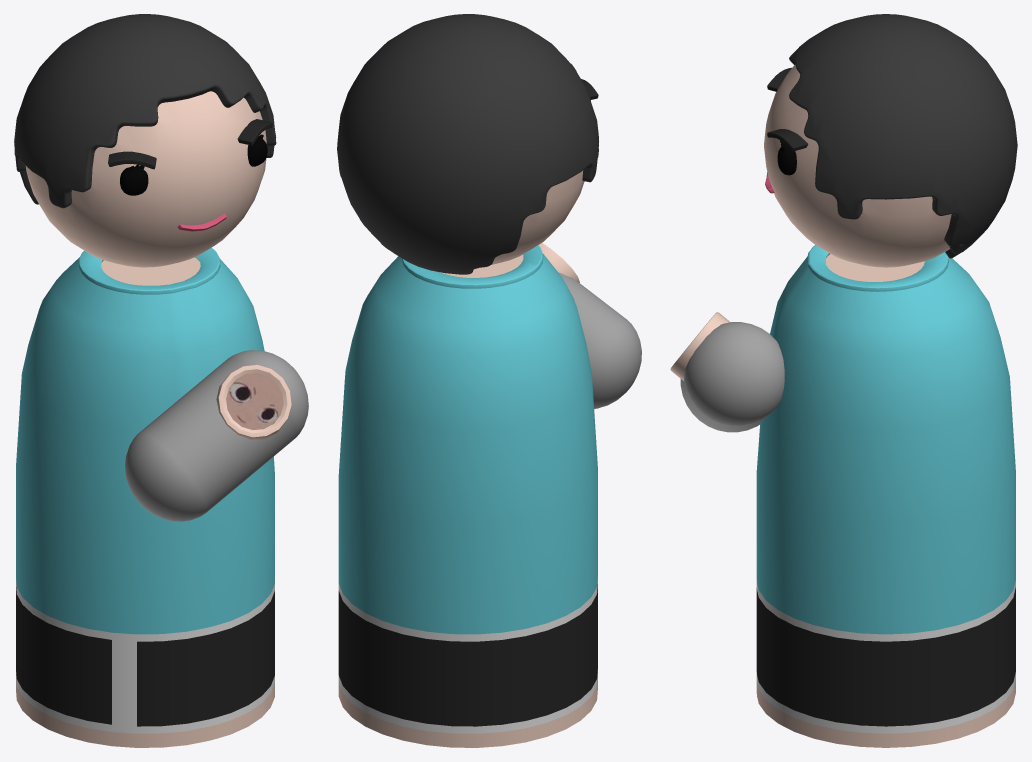
Rendered from MP_Neighbour_Sheryl_Model.fbx.
The picture shows the model from 3 angles, left to right: view 1: azimuth 30°, elevation 25°; view 2: azimuth 150°, elevation 25°; view 3: azimuth 270°, elevation 25°; orthographic projection.
Parts seen in each view (by area): view 1: Sheryl_Body, Sheryl_Head, BabyDarryl_Body, Sheryl_Eyes, Sheryl_Eyebrows; view 2: Sheryl_Body, Sheryl_Head, BabyDarryl_Body; view 3: Sheryl_Body, Sheryl_Head, BabyDarryl_Body, Sheryl_Eyebrows.
Part boxes in pixels (box(x1,y1,x2,y2)): Sheryl_Body: box(16, 247, 274, 747); Sheryl_Head: box(14, 14, 276, 267); BabyDarryl_Body: box(125, 350, 308, 521); Sheryl_Eyes: box(120, 134, 267, 195); Sheryl_Eyebrows: box(108, 119, 272, 169); Sheryl_Body: box(338, 245, 597, 747); Sheryl_Head: box(337, 14, 598, 274); BabyDarryl_Body: box(538, 243, 641, 408); Sheryl_Body: box(756, 245, 1015, 747); Sheryl_Head: box(764, 14, 1017, 267); BabyDarryl_Body: box(670, 312, 784, 432); Sheryl_Eyebrows: box(767, 67, 808, 151).
Size of the model in its own units: 146 by 410 by 193.
Materials: 11 (1 with a texture image).
